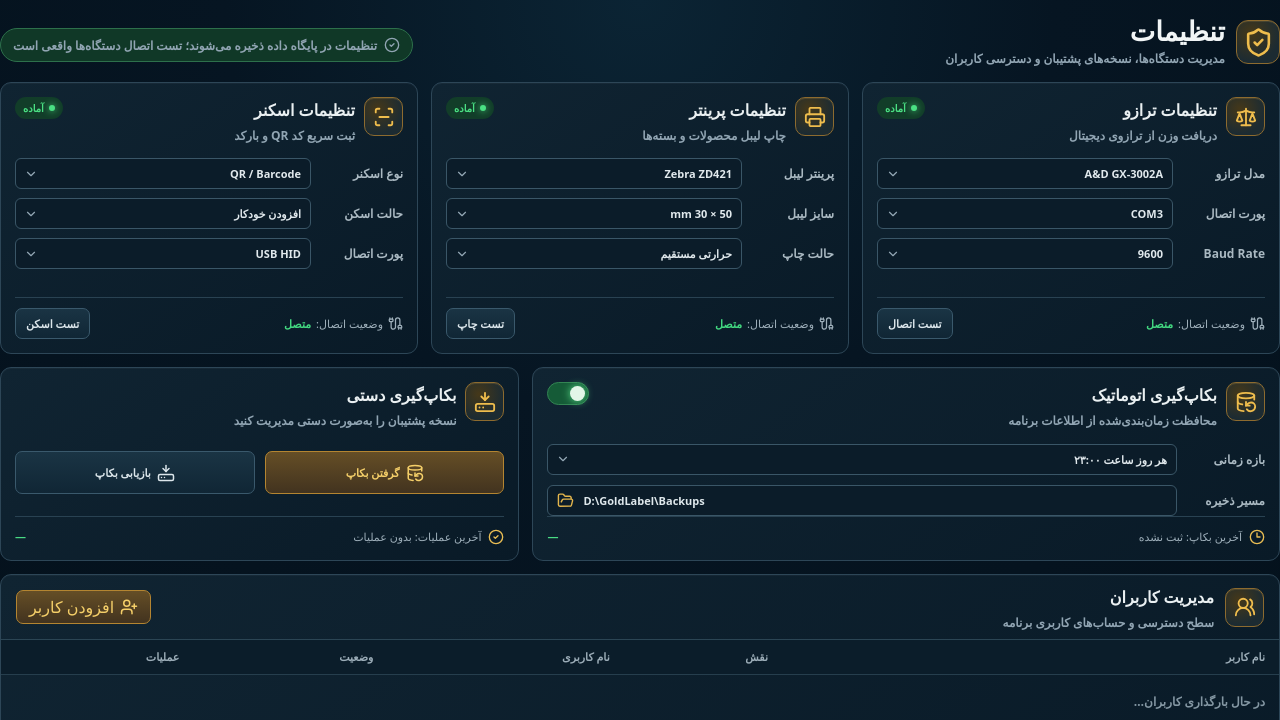
settings hardware actions › runs a real scale probe and shows the reported result
Click the button "تست اتصال": (915, 324) [877,308,952,339]
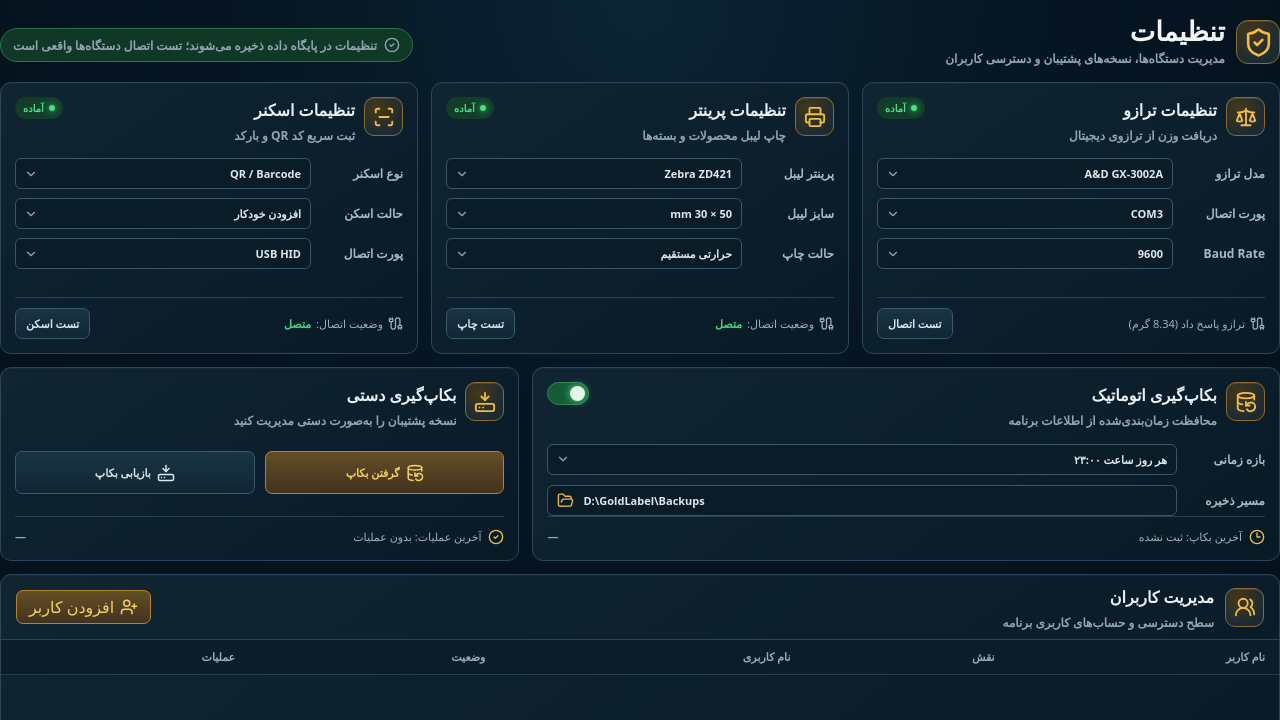
expect the text "ترازو پاسخ داد (8.34 گرم)" is shown: met, box [1129,316,1265,331]
